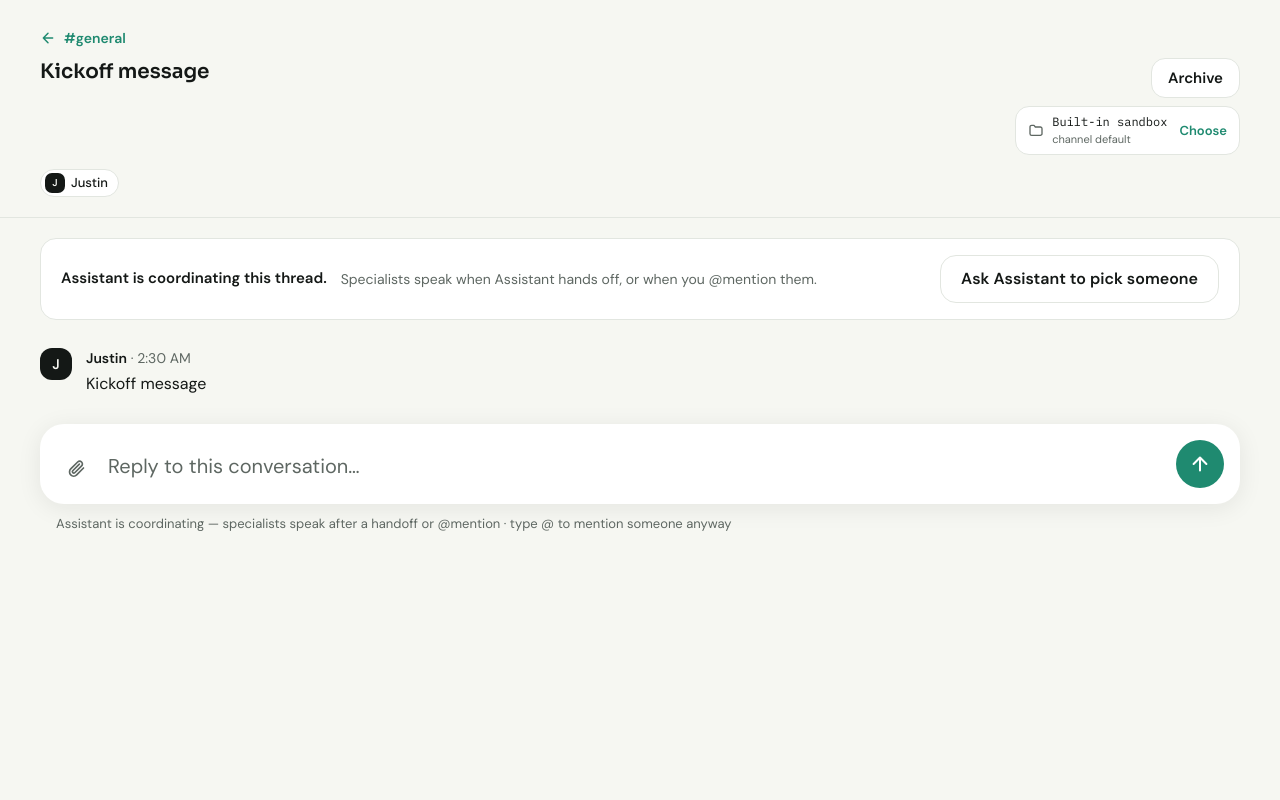
Test: channels/[id]/rivulets/[rivuletId]/+page.svelte › shows the human bubble and Routing… as soon as Send is pressed (#413)
The image size is (1280, 800).
Expected: the text "Kickoff message" below "#general" is shown, [40,59,210,84]
Type "@Assistant ping" into the text box with placeholder "Reply to this conversation…" at (636, 466), box [108,444,1164,488]
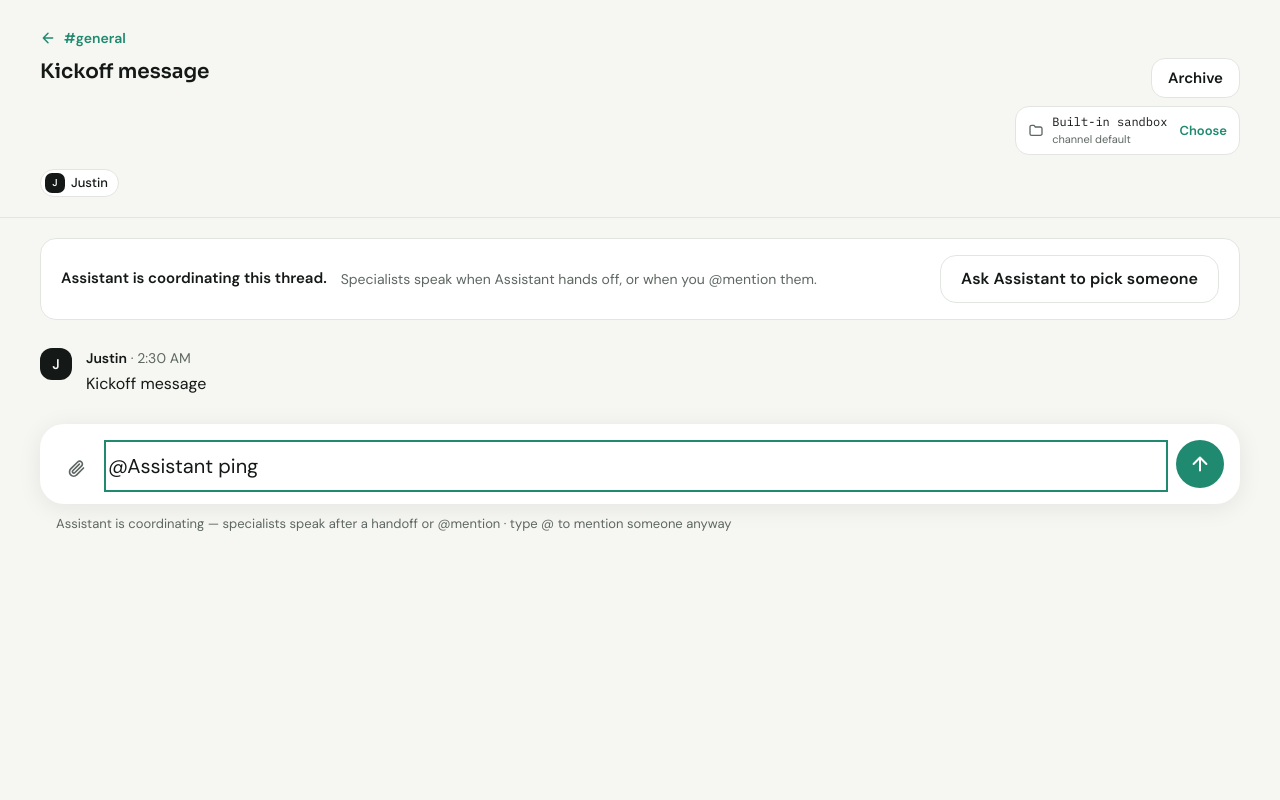
Click the button named "Send" at (1200, 464), box [1176,440,1224,488]
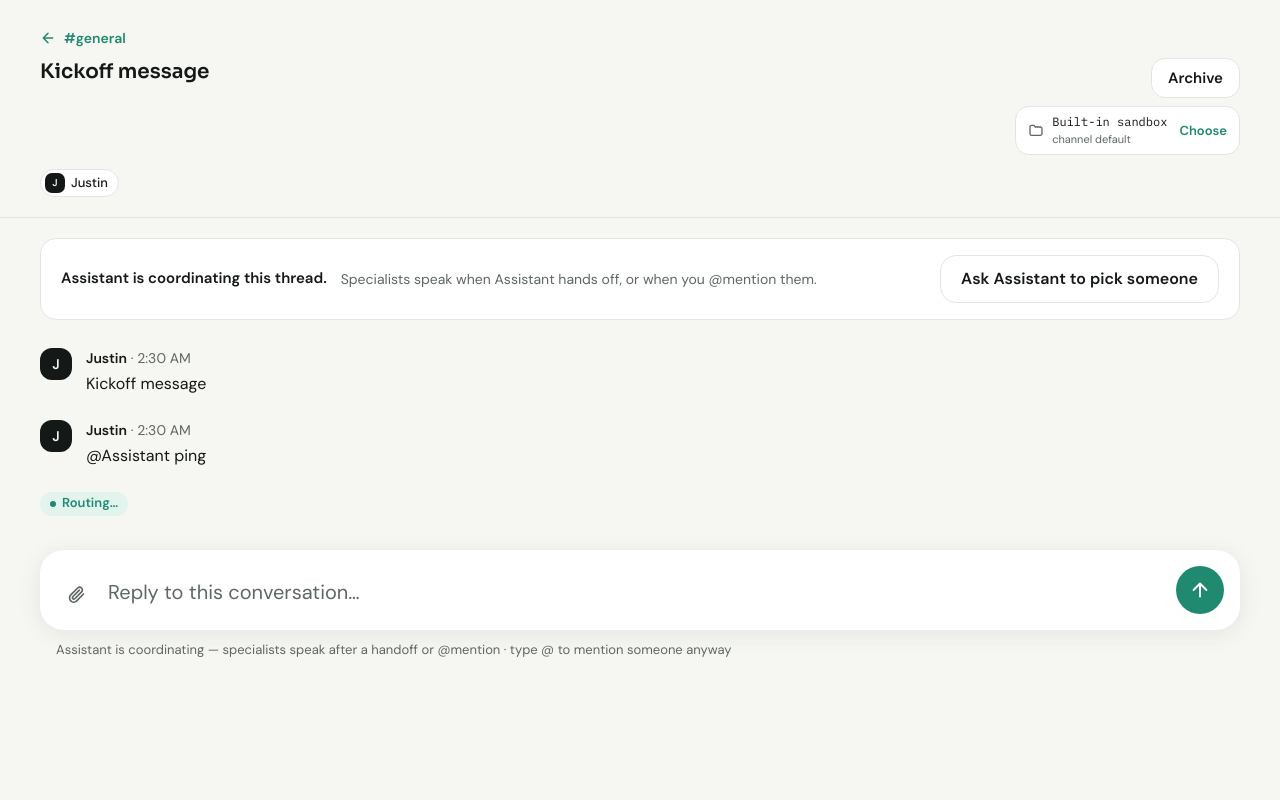
Expected: the text "@Assistant ping" is shown, [86,444,206,468]
Expected: the text "Routing…" is shown, [40,492,128,516]
